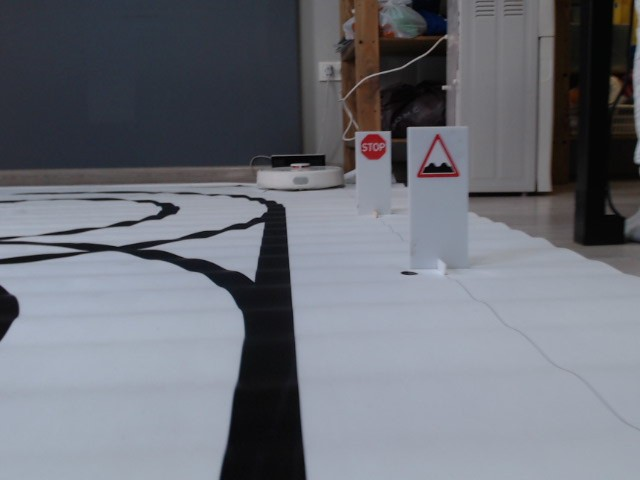Nerov: (415, 129, 461, 179)
Stop: (358, 133, 388, 160)
